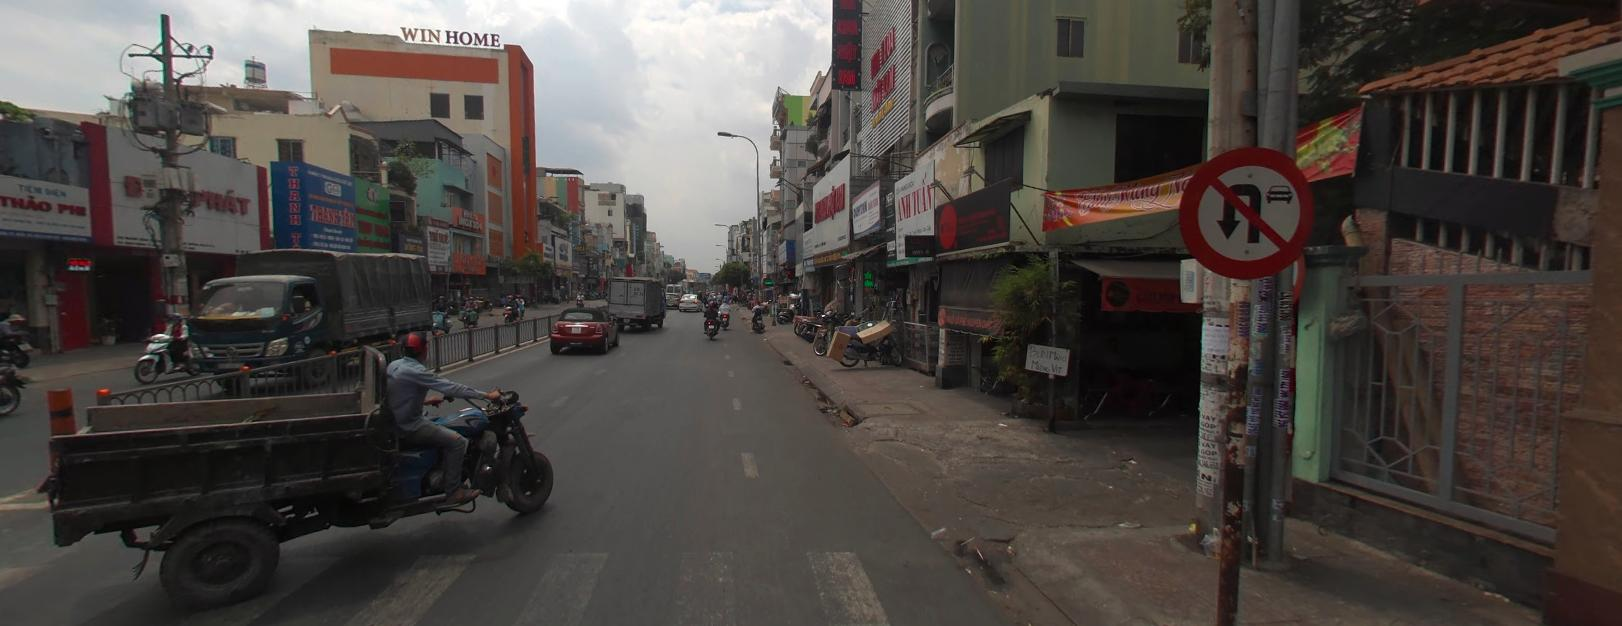Cam re: (1180, 143, 1313, 278)
